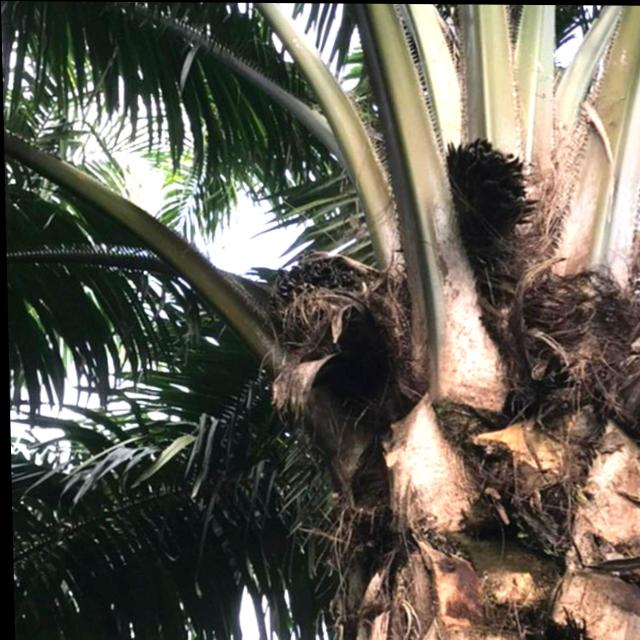almost: (264, 252, 408, 389)
